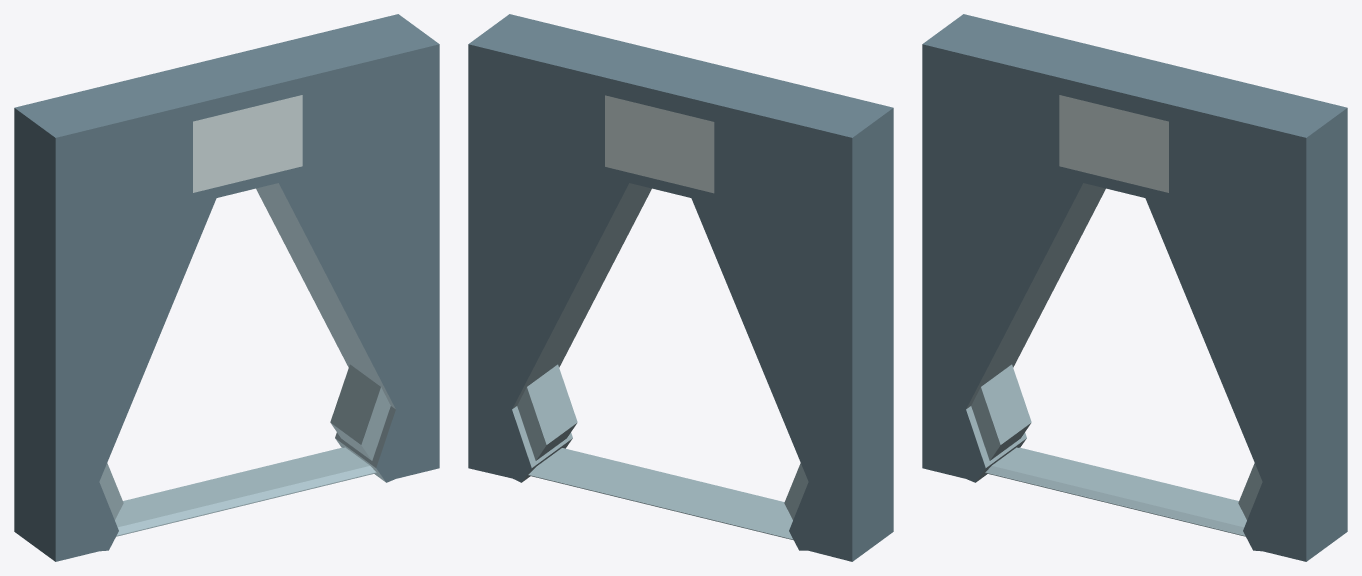
Rendered from q-doorframe.gltf.
The picture shows the model from 3 angles, left to right: view 1: azimuth 30°, elevation 25°; view 2: azimuth 150°, elevation 25°; view 3: azimuth 330°, elevation 25°; orthographic projection.
Visible parts, largest first — view 1: Door_Frame_A; view 2: Door_Frame_A; view 3: Door_Frame_A.
Boxes of the visible parts, x1=… form: Door_Frame_A: x1=14, y1=14, x2=439, y2=561; Door_Frame_A: x1=468, y1=14, x2=893, y2=561; Door_Frame_A: x1=922, y1=14, x2=1347, y2=561.
Size of the model in its own units: 4.87 by 5.16 by 0.9274.
